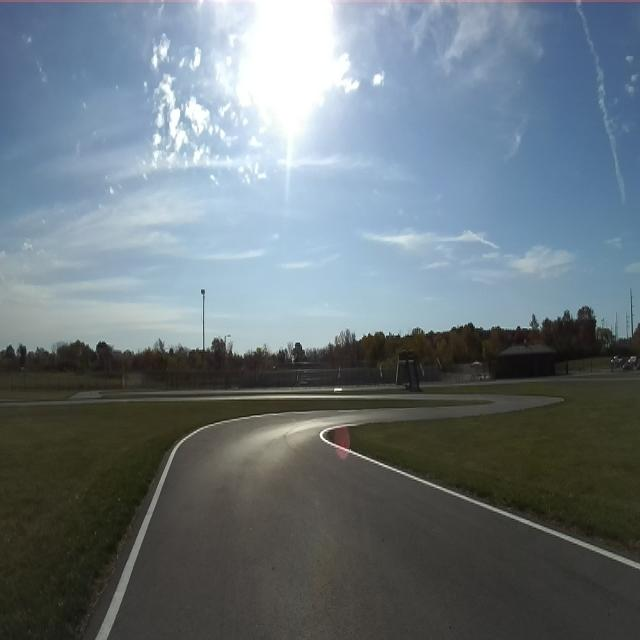white-line: (96, 411, 322, 639), (320, 423, 640, 571)
